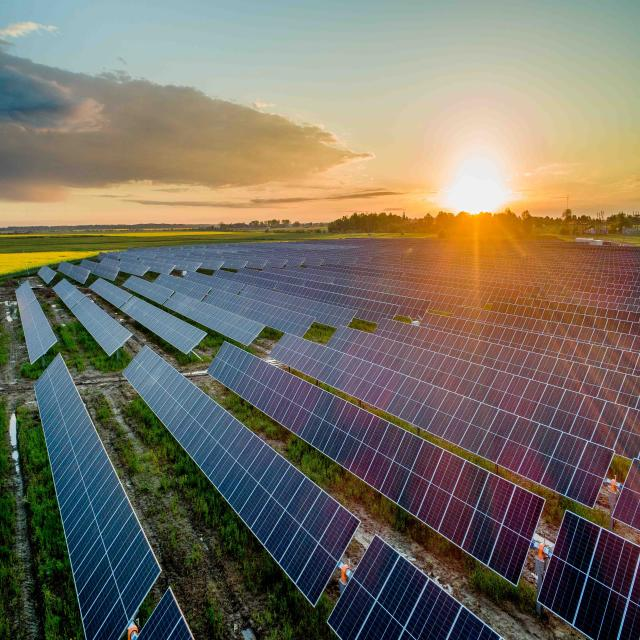clean-solar-panel: (209, 343, 544, 584), (124, 345, 359, 606), (35, 355, 161, 640)
